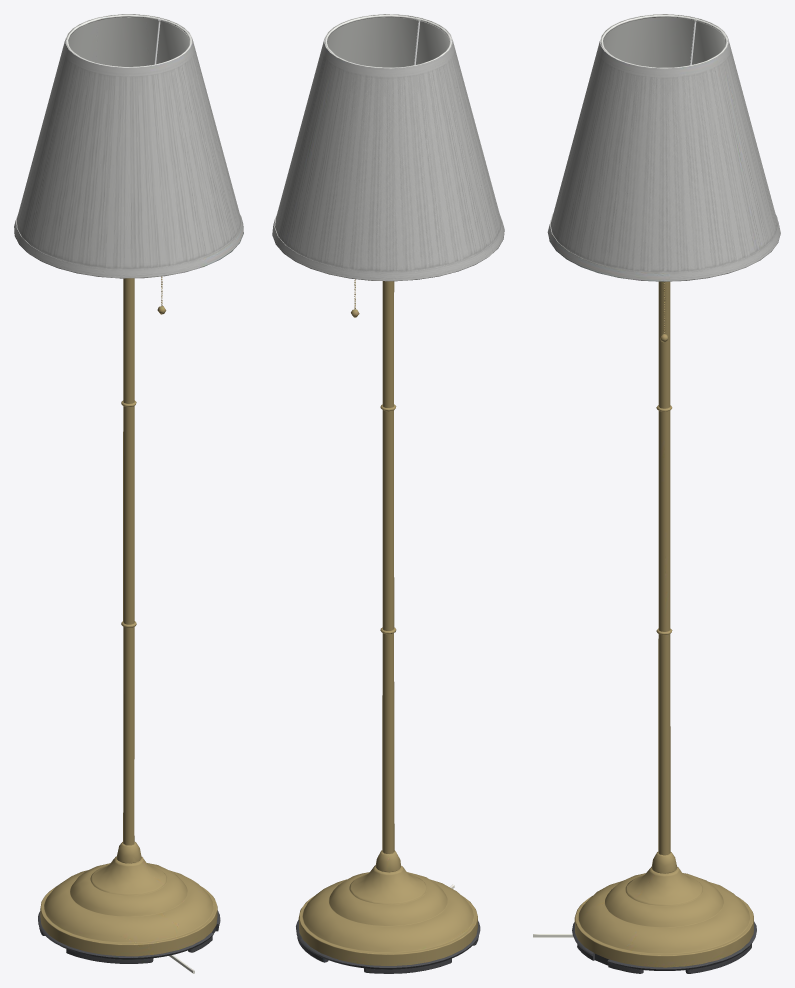
Rendered from arstid_lampa_podogowa_00321317.glb.
3 views of the same model, side by side, from view 1: azimuth 30°, elevation 25°; view 2: azimuth 150°, elevation 25°; view 3: azimuth 270°, elevation 25° (orthographic).
Visible parts, largest first — view 1: arstid_lampa_podogowa_00321317; view 2: arstid_lampa_podogowa_00321317; view 3: arstid_lampa_podogowa_00321317.
Part boxes in pixels (left/top/right/bottom): arstid_lampa_podogowa_00321317: left=14, top=14, right=243, bottom=973; arstid_lampa_podogowa_00321317: left=272, top=14, right=504, bottom=973; arstid_lampa_podogowa_00321317: left=533, top=14, right=780, bottom=973.
Size of the model in its own units: 0.3644 by 1.55 by 0.3872.
1 material, 1 textured.
